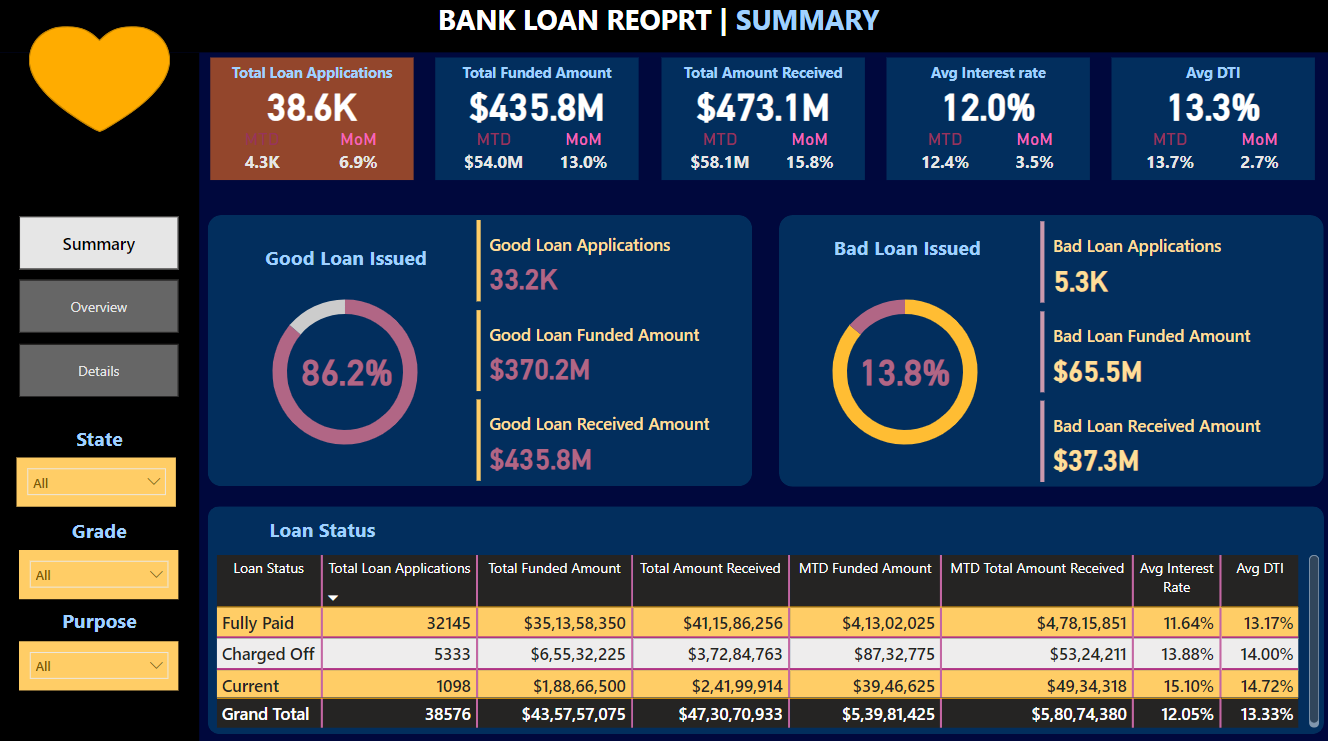

The dashboard page shown, as its layout file describes it:
{"tool":"powerbi","page":{"name":"Summary","canvas":[1280,720],"ordinal":0},"visuals":[{"type":"shape","title":"cassa","box":[0,55,192,665],"z":0},{"type":"shape","box":[202.5,60,195,117.5],"z":0,"group":"g1"},{"type":"shape","box":[418.7,60,195,117.5],"z":0,"group":"g2"},{"type":"shape","box":[635,60,195,117.5],"z":0,"group":"g3"},{"type":"shape","box":[851.2,60.3,195,117.5],"z":0,"group":"g4"},{"type":"shape","box":[1066.7,60.5,195,117.5],"z":0,"group":"g5"},{"type":"card","fields":{"Values":["bank_loan_data.Total Loan Applications"]},"box":[202.5,80,195,48.8],"z":1000,"group":"g1"},{"type":"card","fields":{"Values":["bank_loan_data.Total Funded Amount"]},"box":[418.7,80,195,48.8],"z":1000,"group":"g2"},{"type":"card","fields":{"Values":["bank_loan_data.Total Amount Received"]},"box":[635,80,195,48.8],"z":1000,"group":"g3"},{"type":"card","fields":{"Values":["bank_loan_data.Avg Interest Rate"]},"box":[851.2,80.3,195,48.8],"z":1000,"group":"g4"},{"type":"card","fields":{"Values":["bank_loan_data.Avg DTI"]},"box":[1066.7,80.5,195,48.8],"z":1000,"group":"g5"},{"type":"shape","box":[200.3,211.1,522,260],"z":1000},{"type":"shape","box":[0,0,1280,55],"z":2000},{"type":"textbox","box":[202.5,60,195,40],"z":2000,"group":"g1"},{"type":"textbox","box":[418.7,60,195,40],"z":2000,"group":"g2"},{"type":"textbox","box":[635,60,195,40],"z":2000,"group":"g3"},{"type":"textbox","box":[851.2,60.3,195,40],"z":2000,"group":"g4"},{"type":"textbox","box":[1066.7,60.5,195,40],"z":2000,"group":"g5"},{"type":"card","title":"MTD","fields":{"Values":["bank_loan_data.MTD Loan Applications"]},"box":[222.5,128.8,58.8,46.2],"z":3000,"group":"g1"},{"type":"card","title":"MTD","fields":{"Values":["bank_loan_data.MTD Funded Amount"]},"box":[438.4,128.8,73.8,46.2],"z":3000,"group":"g2"},{"type":"card","title":"MTD","fields":{"Values":["bank_loan_data.MTD Total Amount Received"]},"box":[654.7,128.8,73.8,46.2],"z":3000,"group":"g3"},{"type":"card","title":"MTD","fields":{"Values":["bank_loan_data.MTD Avg Int Rate"]},"box":[870.9,129.1,73.8,46.2],"z":3000,"group":"g4"},{"type":"card","title":"MTD","fields":{"Values":["bank_loan_data.MTD Avg DTI"]},"box":[1086.4,129.3,73.8,46.2],"z":3000,"group":"g5"},{"type":"donutChart","fields":{"Category":["bank_loan_data.Good v/s Bad Loans"],"Y":["bank_loan_data.Total Loan Applications"]},"box":[211.1,269.1,242,184],"z":3000},{"type":"card","title":"MoM","fields":{"Values":["bank_loan_data.MoM Loan Application"]},"box":[315,128.8,58.8,46.2],"z":4000,"group":"g1"},{"type":"card","title":"MoM","fields":{"Values":["bank_loan_data.MoM Total Funded Amount"]},"box":[531.2,128.8,58.8,46.2],"z":4000,"group":"g2"},{"type":"card","title":"MoM","fields":{"Values":["bank_loan_data.MoM Total Amount Received"]},"box":[747.5,128.8,58.8,46.2],"z":4000,"group":"g3"},{"type":"card","title":"MoM","fields":{"Values":["bank_loan_data.MoM Avg Int Rate"]},"box":[963.7,129.1,58.8,46.2],"z":4000,"group":"g4"},{"type":"card","title":"MoM","fields":{"Values":["bank_loan_data.MoM Avg DTI"]},"box":[1179.2,129.3,58.8,46.2],"z":4000,"group":"g5"},{"type":"card","fields":{"Values":["bank_loan_data.Good Loan %"]},"box":[275.3,337,116,45.7],"z":4000},{"type":"textbox","box":[416.2,0,447.5,55],"z":5000},{"type":"group","id":"g1","title":"Group 1","box":[202.5,60,195,117.5],"z":6000},{"type":"group","id":"g2","title":"Group 1","box":[418.7,60,195,117.5],"z":7000},{"type":"group","id":"g3","title":"Group 1","box":[635,60,195,117.5],"z":8000},{"type":"group","id":"g4","title":"Group 1","box":[851.2,60.3,194.2,117],"z":9000},{"type":"shape","box":[748,211.1,522.4,260.6],"z":10000},{"type":"group","id":"g5","title":"Group 2","box":[1066.7,60.5,195,117.5],"z":11000},{"type":"textbox","box":[240.7,233.3,184,35.8],"z":12000},{"type":"cardVisual","fields":{"Data":["bank_loan_data.Good Loan Applications","bank_loan_data.Good Loan Funded Amount","bank_loan_data.Good Loan Received Amount"]},"box":[453.1,211.1,258,260.5],"z":13000},{"type":"donutChart","fields":{"Category":["bank_loan_data.Good v/s Bad Loans"],"Y":["bank_loan_data.Total Loan Applications"]},"box":[748.2,269.1,242,184],"z":14000},{"type":"textbox","box":[779,224.7,184,35.8],"z":15000},{"type":"card","fields":{"Values":["bank_loan_data.Bad Loan %"]},"box":[809.9,337,116,45.7],"z":16000},{"type":"cardVisual","fields":{"Data":["bank_loan_data.Bad Loan Applications","bank_loan_data.Bad Loan Funded Amount","bank_loan_data.Bad Loan Received Amount"]},"box":[993.8,212.3,258,260.5],"z":17000},{"type":"shape","box":[200,490.1,1070.4,218.5],"z":18000},{"type":"tableEx","fields":{"Values":["bank_loan_data.loan_status","bank_loan_data.Total Loan Applications","bank_loan_data.Total Funded Amount","bank_loan_data.Total Amount Received","bank_loan_data.MTD Funded Amount","bank_loan_data.MTD Total Amount Received","bank_loan_data.Avg Interest Rate","bank_loan_data.Avg DTI"]},"box":[202.5,532.1,1067.9,175.3],"z":19000},{"type":"textbox","box":[218.5,495.1,184,35.8],"z":20000},{"type":"slicer","fields":{"Values":["bank_loan_data.address_state"]},"box":[17.3,443.2,153.1,46.9],"z":21000},{"type":"textbox","box":[0,407.4,192.6,35.8],"z":22000},{"type":"slicer","fields":{"Values":["bank_loan_data.grade"]},"box":[19.8,532.1,153.1,46.9],"z":23000},{"type":"textbox","box":[0,496.3,192.6,35.8],"z":24000},{"type":"slicer","fields":{"Values":["bank_loan_data.purpose"]},"box":[19.8,619.8,153.1,46.9],"z":25000},{"type":"textbox","box":[0,582.7,192.6,35.8],"z":26000},{"type":"shape","box":[29,30.2,135.1,101.3],"z":27000},{"type":"pageNavigator","box":[19.3,212.3,153.2,174.9],"z":28000}]}

Visuals, with their boxes in screenshot pixels (x1, y1, x2, y2), scaled from the page's 1280x720 canvas onto the 1328x741 screenshot:
"cassa" shape: x1=0, y1=57, x2=199, y2=740
shape: x1=210, y1=62, x2=412, y2=183
shape: x1=434, y1=62, x2=637, y2=183
shape: x1=659, y1=62, x2=861, y2=183
shape: x1=883, y1=62, x2=1085, y2=183
shape: x1=1107, y1=62, x2=1309, y2=183
card - bank_loan_data.Total Loan Applications: x1=210, y1=82, x2=412, y2=133
card - bank_loan_data.Total Funded Amount: x1=434, y1=82, x2=637, y2=133
card - bank_loan_data.Total Amount Received: x1=659, y1=82, x2=861, y2=133
card - bank_loan_data.Avg Interest Rate: x1=883, y1=83, x2=1085, y2=133
card - bank_loan_data.Avg DTI: x1=1107, y1=83, x2=1309, y2=133
shape: x1=208, y1=217, x2=749, y2=485
shape: x1=0, y1=0, x2=1327, y2=57
textbox: x1=210, y1=62, x2=412, y2=103
textbox: x1=434, y1=62, x2=637, y2=103
textbox: x1=659, y1=62, x2=861, y2=103
textbox: x1=883, y1=62, x2=1085, y2=103
textbox: x1=1107, y1=62, x2=1309, y2=103
"MTD" card: x1=231, y1=133, x2=292, y2=180
"MTD" card: x1=455, y1=133, x2=531, y2=180
"MTD" card: x1=679, y1=133, x2=756, y2=180
"MTD" card: x1=904, y1=133, x2=980, y2=180
"MTD" card: x1=1127, y1=133, x2=1204, y2=181
donutChart - bank_loan_data.Good v/s Bad Loans x bank_loan_data.Total Loan Applications: x1=219, y1=277, x2=470, y2=466
"MoM" card: x1=327, y1=133, x2=388, y2=180
"MoM" card: x1=551, y1=133, x2=612, y2=180
"MoM" card: x1=776, y1=133, x2=837, y2=180
"MoM" card: x1=1000, y1=133, x2=1061, y2=180
"MoM" card: x1=1223, y1=133, x2=1284, y2=181
card - bank_loan_data.Good Loan %: x1=286, y1=347, x2=406, y2=394
textbox: x1=432, y1=0, x2=896, y2=57
"Group 1" group: x1=210, y1=62, x2=412, y2=183
"Group 1" group: x1=434, y1=62, x2=637, y2=183
"Group 1" group: x1=659, y1=62, x2=861, y2=183
"Group 1" group: x1=883, y1=62, x2=1085, y2=182
shape: x1=776, y1=217, x2=1318, y2=485
"Group 2" group: x1=1107, y1=62, x2=1309, y2=183
textbox: x1=250, y1=240, x2=441, y2=277
cardVisual - bank_loan_data.Good Loan Applications x bank_loan_data.Good Loan Funded Amount: x1=470, y1=217, x2=738, y2=485
donutChart - bank_loan_data.Good v/s Bad Loans x bank_loan_data.Total Loan Applications: x1=776, y1=277, x2=1027, y2=466
textbox: x1=808, y1=231, x2=999, y2=268
card - bank_loan_data.Bad Loan %: x1=840, y1=347, x2=961, y2=394
cardVisual - bank_loan_data.Bad Loan Applications x bank_loan_data.Bad Loan Funded Amount: x1=1031, y1=218, x2=1299, y2=487
shape: x1=208, y1=504, x2=1318, y2=729
tableEx - bank_loan_data.loan_status x bank_loan_data.Total Loan Applications: x1=210, y1=548, x2=1318, y2=728
textbox: x1=227, y1=510, x2=418, y2=546
slicer - bank_loan_data.address_state: x1=18, y1=456, x2=177, y2=504
textbox: x1=0, y1=419, x2=200, y2=456
slicer - bank_loan_data.grade: x1=21, y1=548, x2=179, y2=596
textbox: x1=0, y1=511, x2=200, y2=548
slicer - bank_loan_data.purpose: x1=21, y1=638, x2=179, y2=686
textbox: x1=0, y1=600, x2=200, y2=637
shape: x1=30, y1=31, x2=170, y2=135
pageNavigator: x1=20, y1=218, x2=179, y2=398
